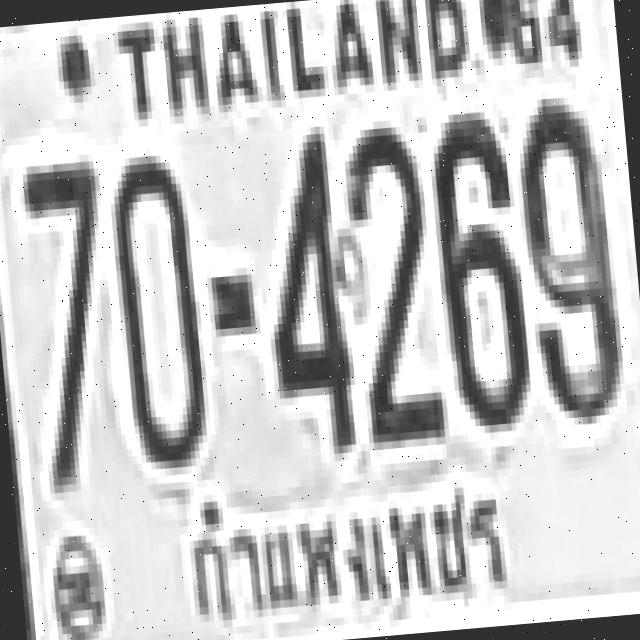0: (105, 145, 208, 463)
2: (340, 121, 442, 439)
4: (252, 126, 356, 450)
6: (426, 110, 534, 433)
7: (16, 157, 116, 482)
9: (510, 94, 622, 420)
KamphaengPhet: (170, 454, 522, 634)
